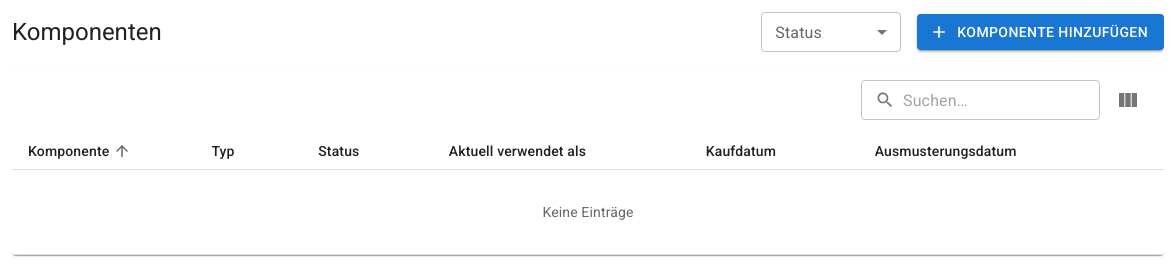
Test: ComponentList › status filter menu › shows translated status options in German
The image size is (1176, 278).
Click the dropdown named "Status" at [831, 32], box [761,12,901,52]
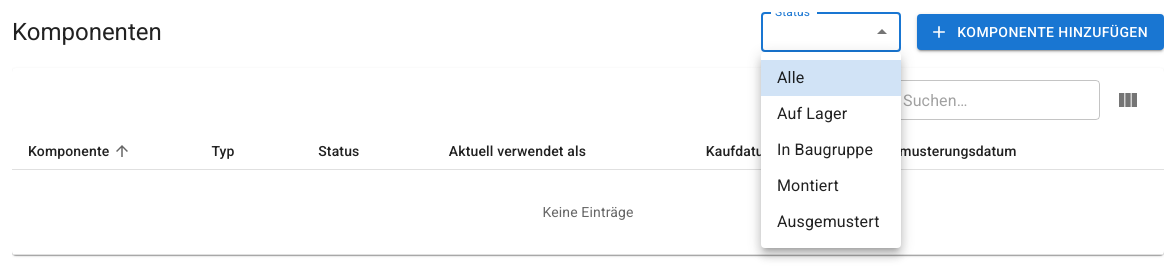
Check: the option "Auf Lager" is shown, box [777,104,847,123]
Check: the option "Montiert" is shown, box [777,176,839,195]
Check: the option "Ausgemustert" is shown, box [777,212,880,231]
